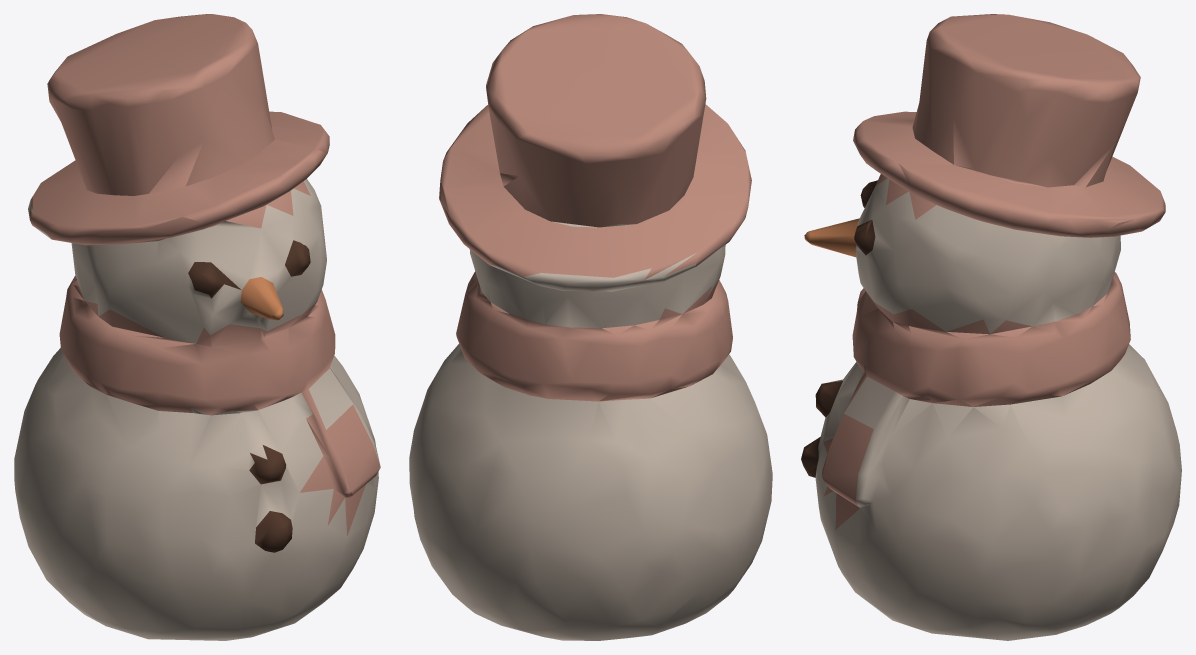
File: snowman_01.medium.glb
3 renders of one model, left to right at view 1: azimuth 30°, elevation 25°; view 2: azimuth 150°, elevation 25°; view 3: azimuth 270°, elevation 25°, orthographic.
Bounding box in the file's own units: 1.11 × 1.89 × 1.17.
